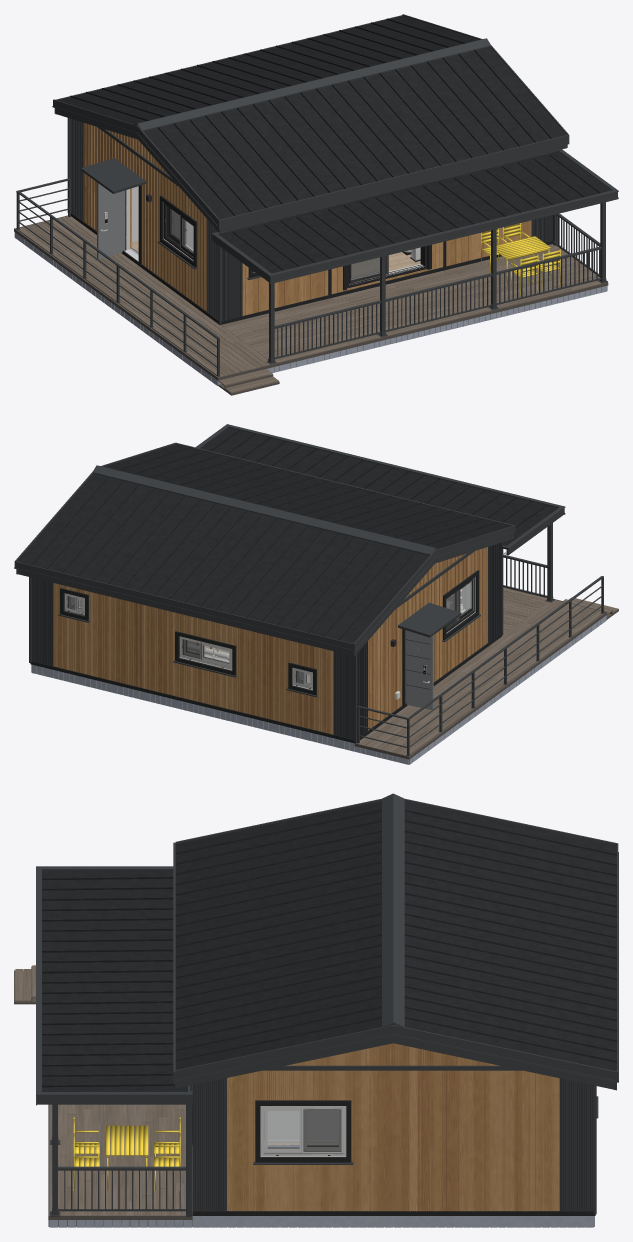
File: seum-bonjeom-19.glb
The picture shows the model from 3 angles, top to bottom: view 1: azimuth 30°, elevation 25°; view 2: azimuth 150°, elevation 25°; view 3: azimuth 270°, elevation 25°; orthographic projection. The views are drawn at different scales.
Visible parts, largest first — view 1: 지붕_징크판넬, 징크판넬, 포치_기둥_다크그레이, 지붕_후레싱_차콜, 우드_메탈사이딩, 후레싱_차콜, 합성데크_X1, 차콜_골강판, 합성데크_X0, 합성데크_X2, 데크스커트, 합성데크_Y2 (+11 smaller); view 2: 지붕_징크판넬, 우드_메탈사이딩, 지붕_후레싱_차콜, 징크판넬, 차콜_골강판, 포치_기둥_다크그레이, 데크스커트, 창호케이싱, 후레싱_차콜, 합성데크_Y0, 합성데크_Y1, 합성데크_Y2 (+7 smaller); view 3: 지붕_징크판넬, 우드_메탈사이딩, 징크판넬, 지붕_후레싱_차콜, 차콜_골강판, 데크스커트, 후레싱_차콜, 합성데크_X2, 합성데크_X1, 합성데크_X0, 창호케이싱, 포치_기둥_다크그레이 (+8 smaller).
Part boxes in pixels (x1,y1,x2,y2): 지붕_징크판넬: [57, 16, 566, 219]; 징크판넬: [218, 151, 611, 273]; 포치_기둥_다크그레이: [16, 178, 607, 376]; 지붕_후레싱_차콜: [52, 14, 569, 232]; 우드_메탈사이딩: [83, 122, 531, 315]; 후레싱_차콜: [67, 118, 618, 323]; 합성데크_X1: [221, 246, 605, 393]; 차콜_골강판: [70, 118, 552, 321]; 합성데크_X0: [218, 244, 597, 390]; 합성데크_X2: [221, 248, 599, 358]; 데크스커트: [14, 232, 607, 385]; 합성데크_Y2: [28, 217, 267, 375]; 지붕_징크판넬: [17, 444, 511, 643]; 우드_메탈사이딩: [53, 547, 487, 734]; 지붕_후레싱_차콜: [14, 442, 515, 656]; 징크판넬: [200, 427, 557, 549]; 차콜_골강판: [31, 543, 500, 739]; 포치_기둥_다크그레이: [357, 523, 604, 755]; 데크스커트: [31, 615, 606, 764]; 창호케이싱: [30, 570, 501, 743]; 후레싱_차콜: [29, 424, 565, 742]; 합성데크_Y0: [366, 600, 588, 754]; 합성데크_Y1: [356, 603, 602, 755]; 합성데크_Y2: [361, 600, 598, 753]; 지붕_징크판넬: [175, 801, 616, 1071]; 우드_메탈사이딩: [227, 1070, 559, 1211]; 징크판넬: [42, 870, 187, 1091]; 지붕_후레싱_차콜: [173, 793, 618, 1090]; 차콜_골강판: [192, 1078, 593, 1211]; 데크스커트: [48, 1216, 594, 1227]; 후레싱_차콜: [36, 866, 598, 1214]; 합성데크_X2: [50, 1104, 184, 1215]; 합성데크_X1: [15, 965, 185, 1215]; 합성데크_X0: [23, 969, 192, 1215]; 창호케이싱: [191, 1100, 595, 1215]; 포치_기둥_다크그레이: [50, 1104, 191, 1216].
Size of the model in its own units: 10.77 by 4.05 by 10.56.
Materials: 188 (30 with a texture image).
